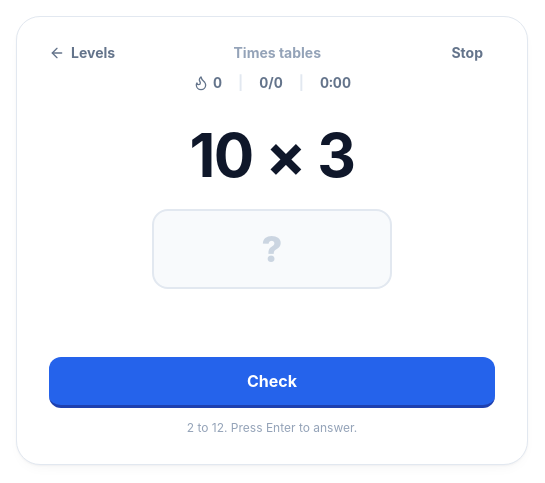
Test: a wrong answer › resets the streak but keeps the best run
The image size is (545, 483).
Type "30" into the field named "Answer for ".
click(272, 249); type("30")  # box top-left (154, 229), bottom-right (390, 269)
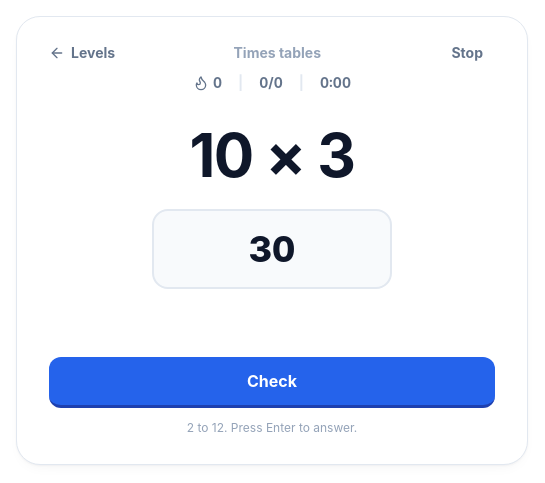
Press Enter
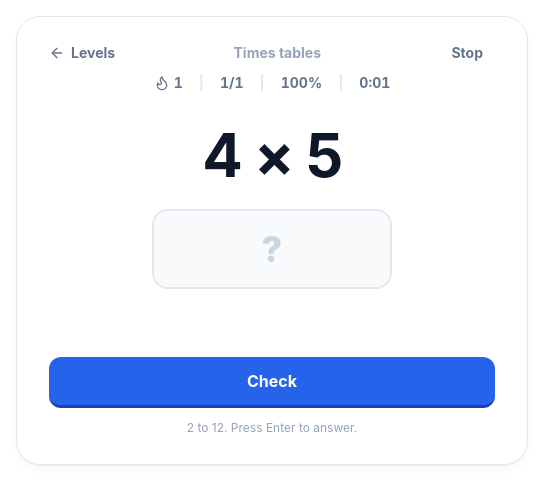
Type "23" into the field named "Answer for ".
click(272, 249); type("23")  # box top-left (154, 229), bottom-right (390, 269)
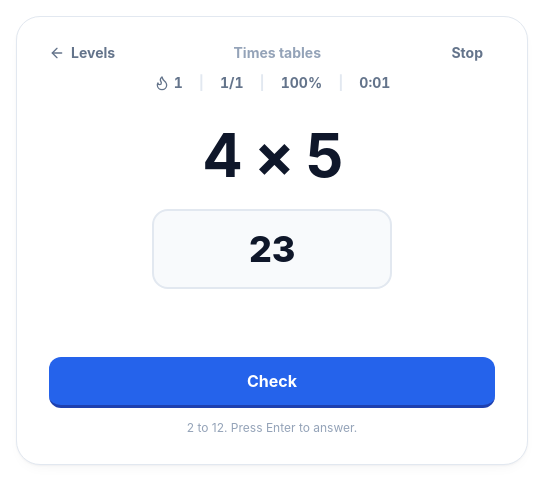
Press Enter
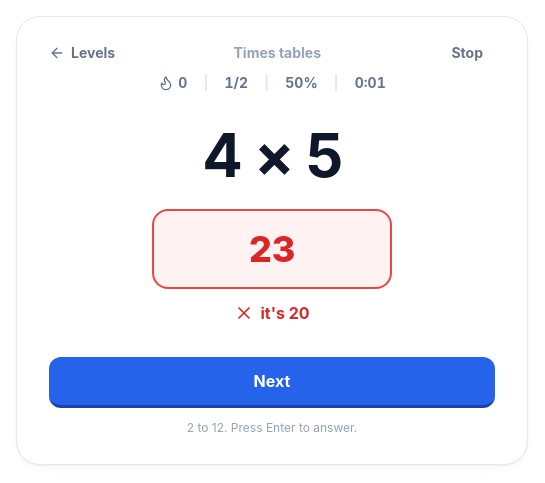
Expected: the text "1/2" is shown, top-left (224, 73), bottom-right (248, 93)
Expected: the text "50%" is shown, top-left (285, 73), bottom-right (318, 93)
